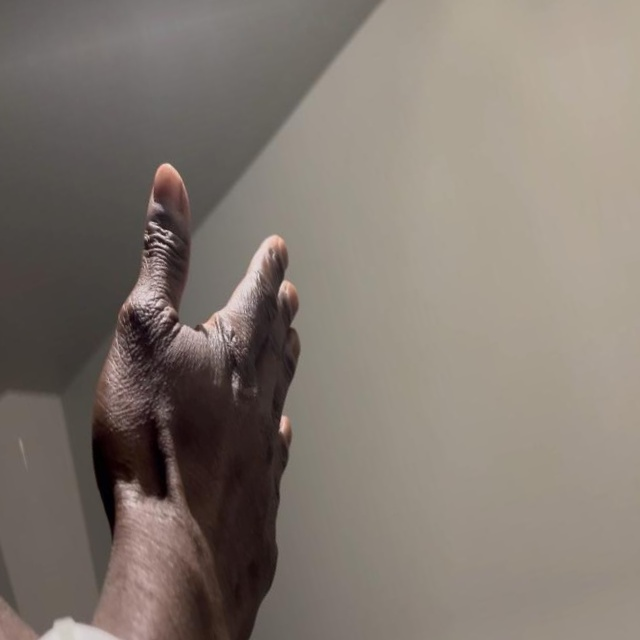Paper: (28, 136, 383, 640)
